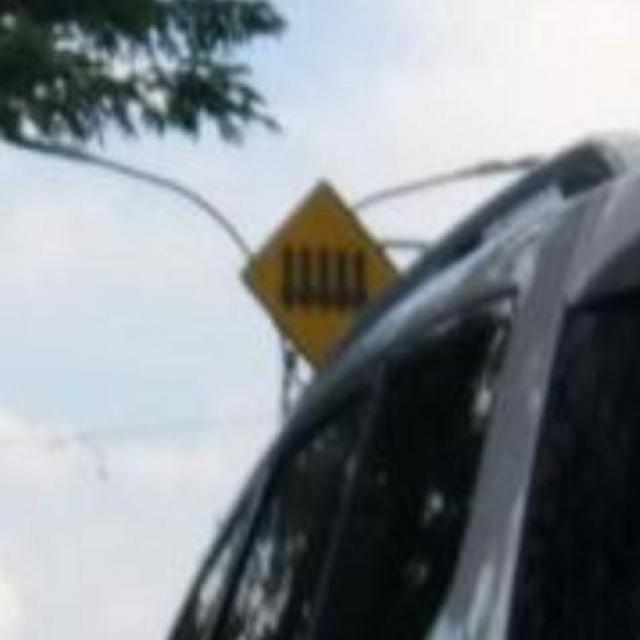traffic sign: (255, 190, 373, 316)
